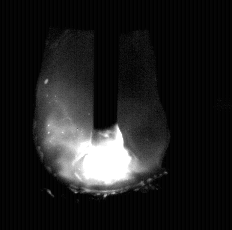arame: (94, 0, 119, 131)
poca: (37, 0, 170, 230)
